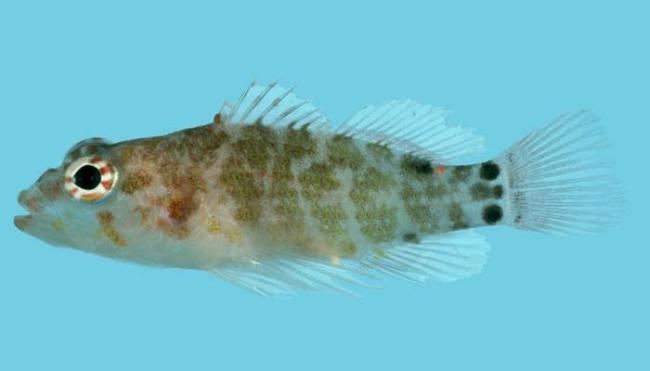fish: (13, 77, 623, 298)
